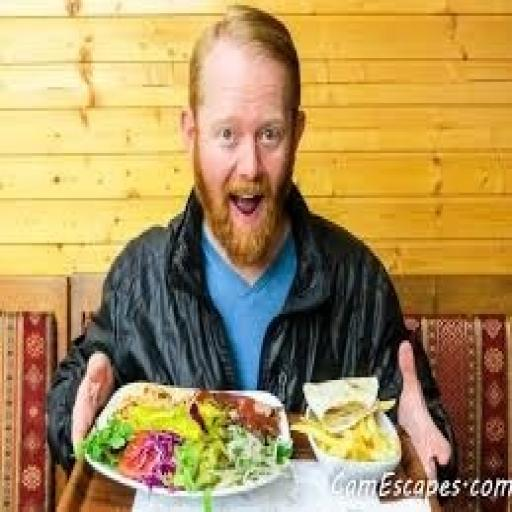eating: (44, 3, 458, 509)
